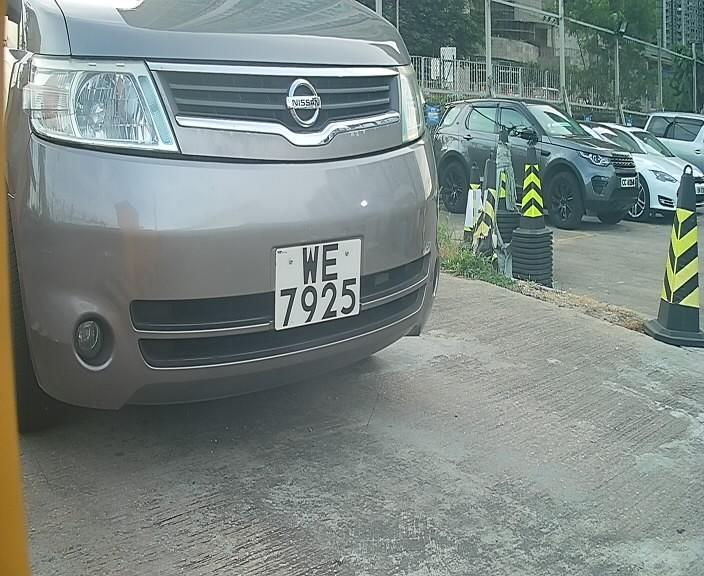privatecar: (10, 3, 456, 420)
